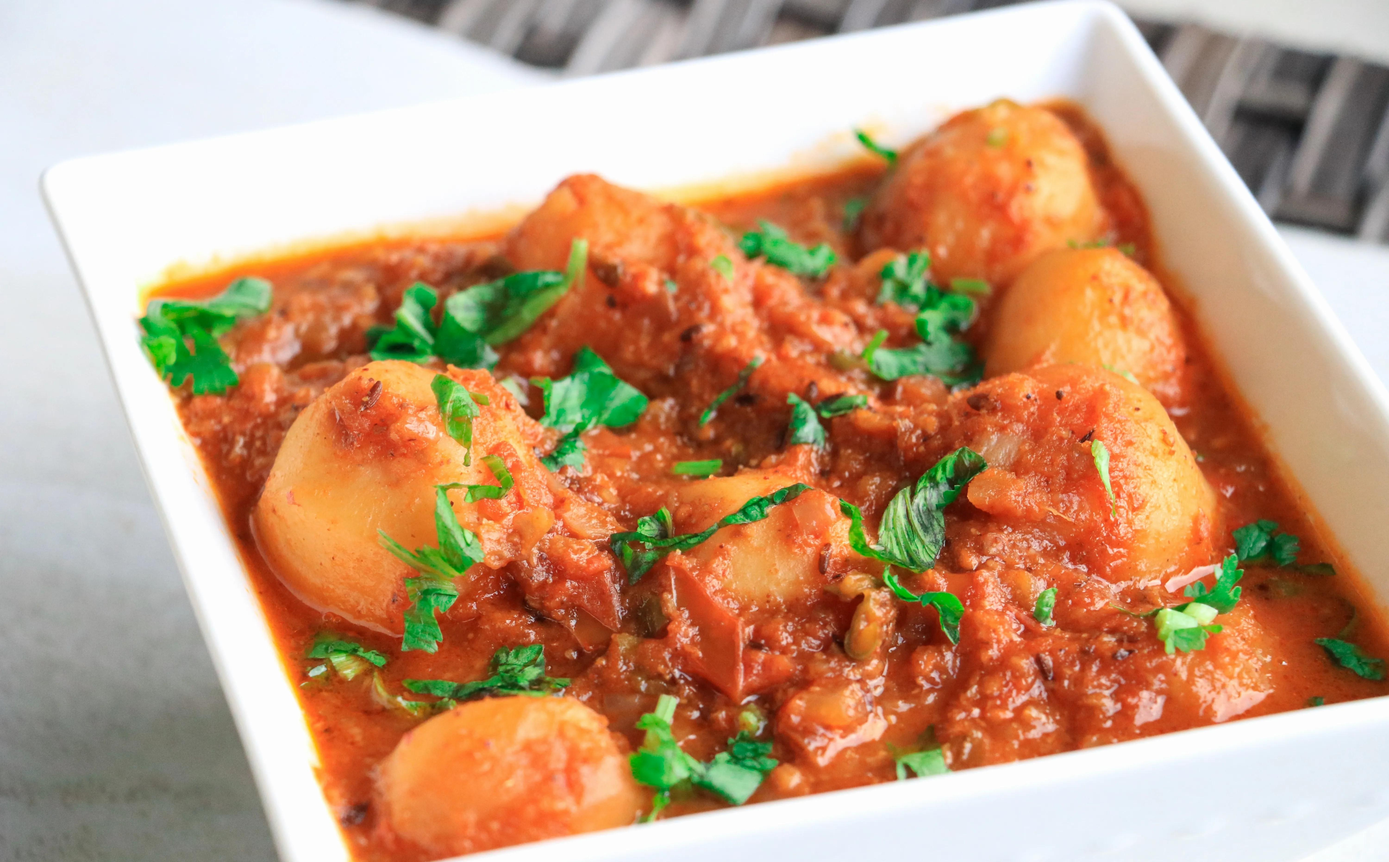DumAloo: (149, 86, 1389, 862)
